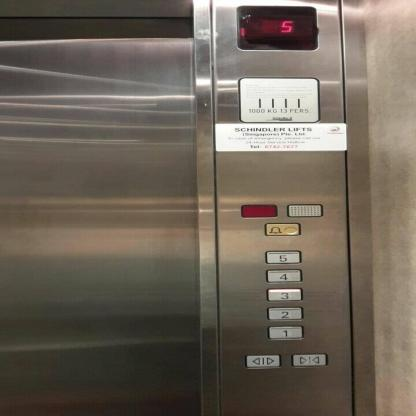1: (265, 324, 305, 340)
2: (265, 306, 304, 321)
3: (265, 286, 303, 302)
4: (264, 268, 303, 284)
5: (263, 249, 302, 264)
alarm: (262, 222, 301, 236)
close: (289, 352, 329, 367)
empty: (239, 203, 278, 218)
led: (235, 5, 319, 51)
open: (243, 353, 282, 369)
speaker: (286, 203, 324, 217)
